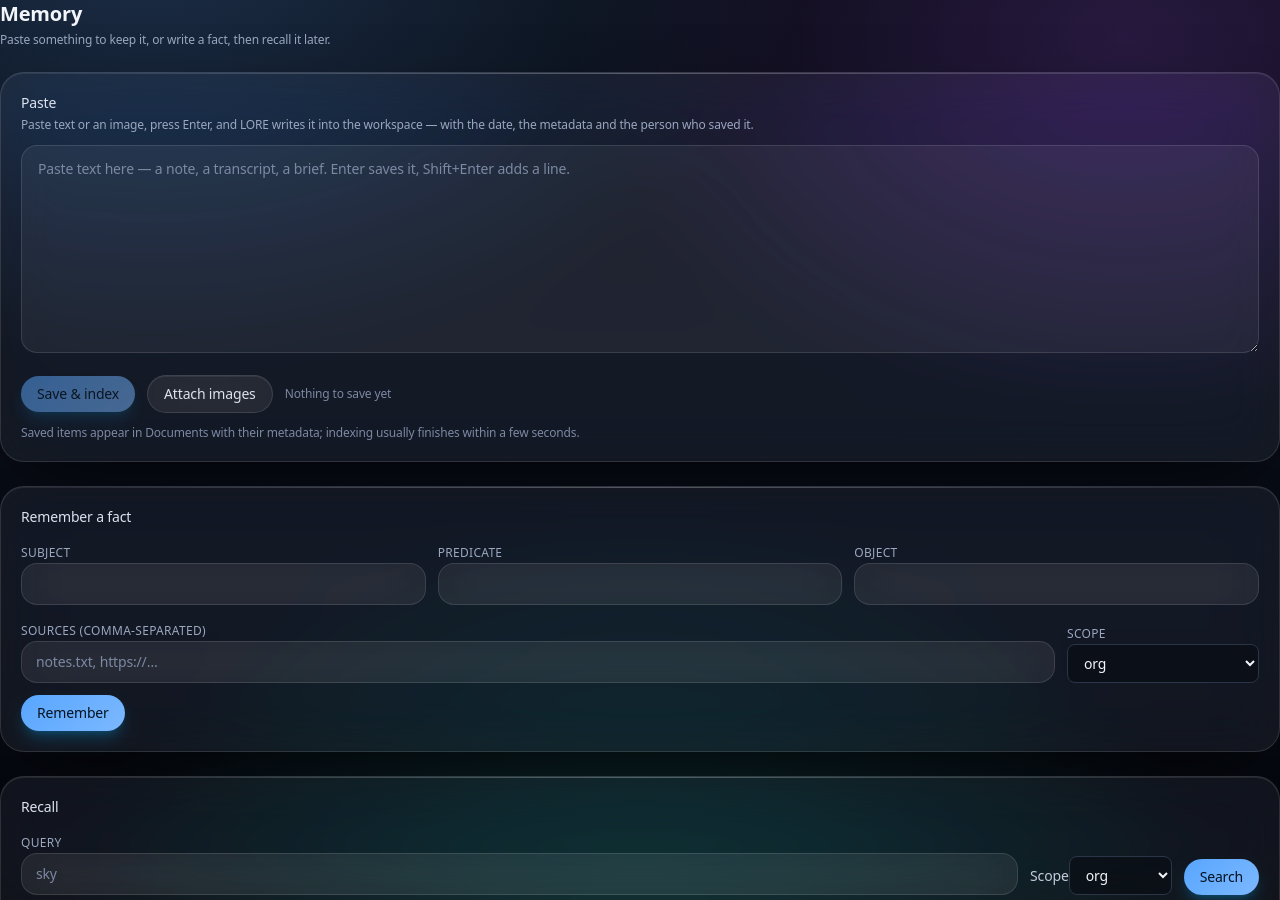
Memory › saves a pasted note into the workspace from Memory
Type "Launch notes for episode three" into the text box labelled "Paste text".
click(640, 249); type("Launch notes for episode three")  # box [21,145,1259,353]
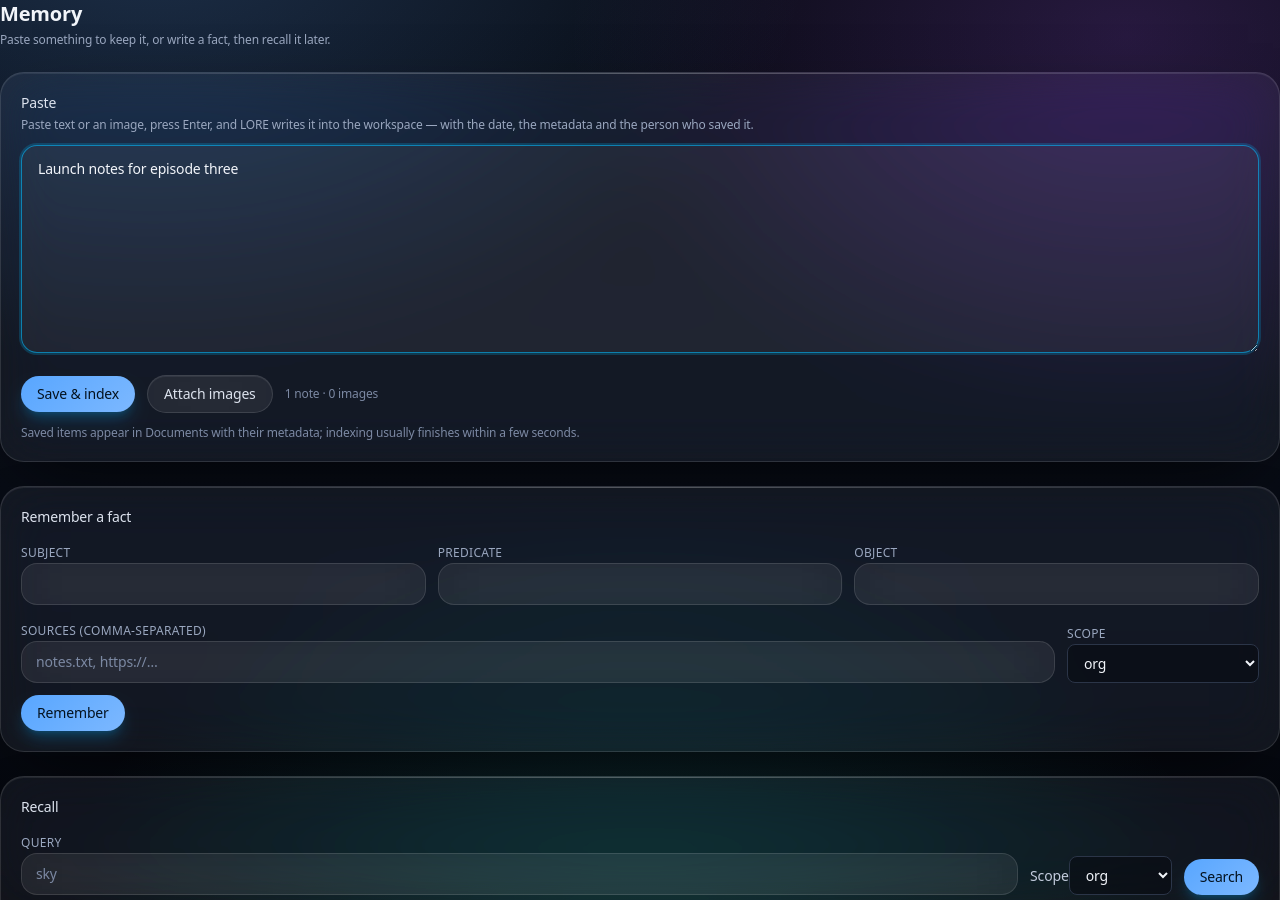
Click the button "Save & index".
click(78, 394)  # box [21,376,135,412]
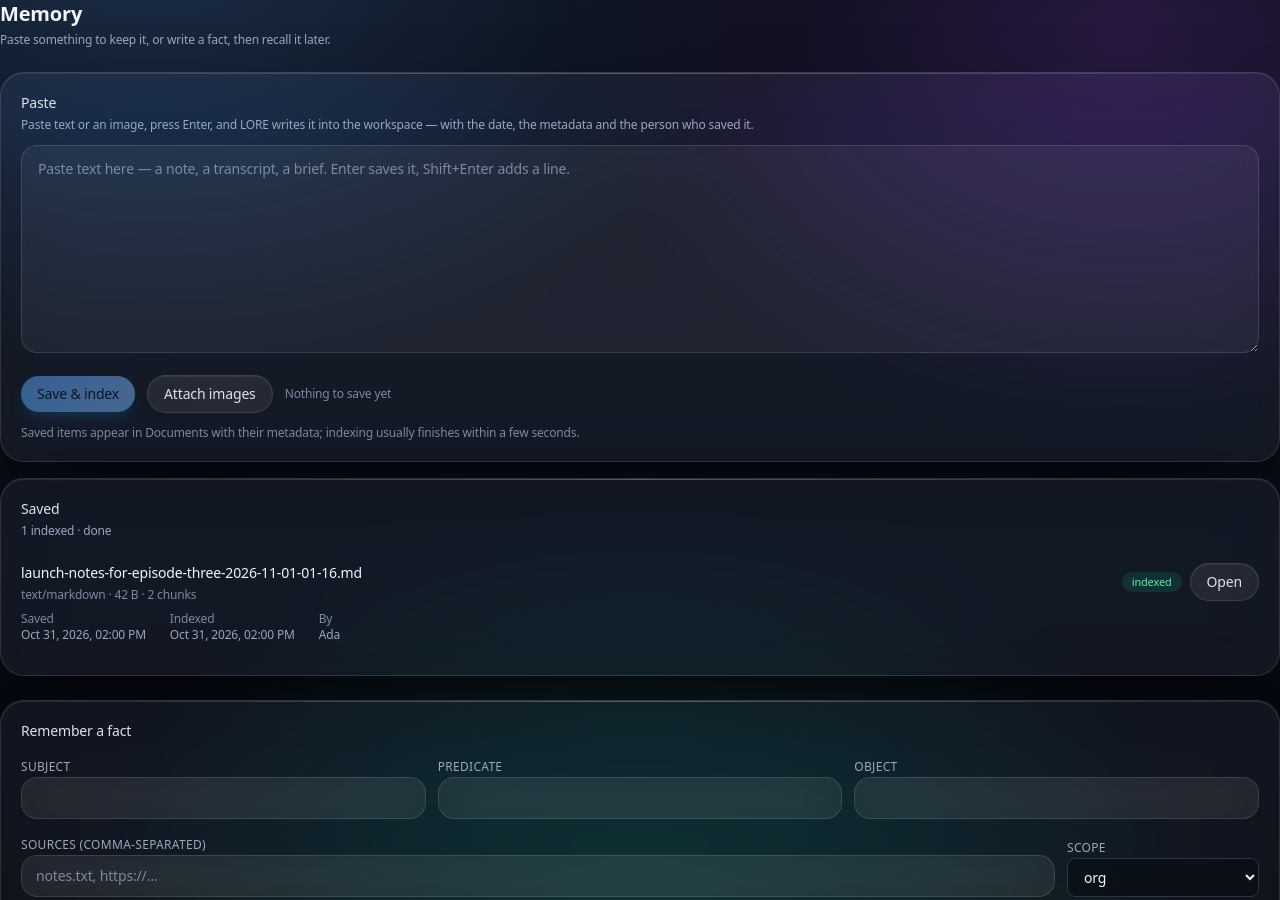
Expected: the heading "Saved" is shown, [21,499,59,518]
Expected: the text "indexed" is shown, [1122,572,1182,592]
Expected: the text "Ada" is shown, [319,626,340,643]
